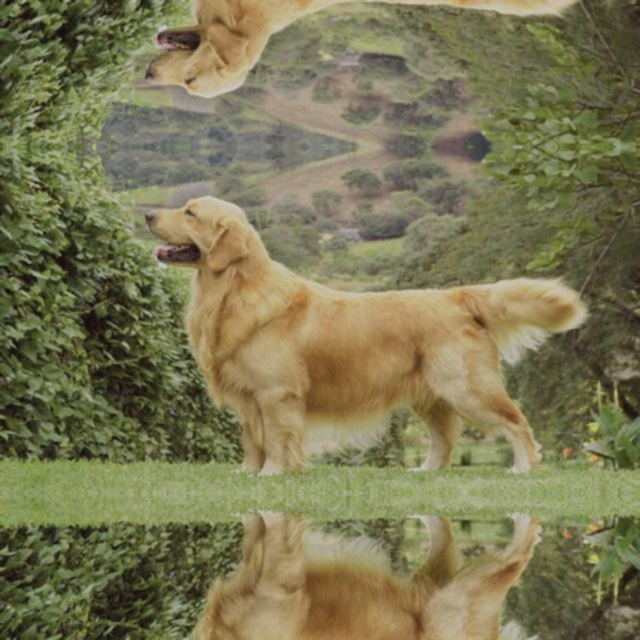dog: (148, 193, 571, 482), (147, 503, 570, 640), (147, 0, 570, 98)
